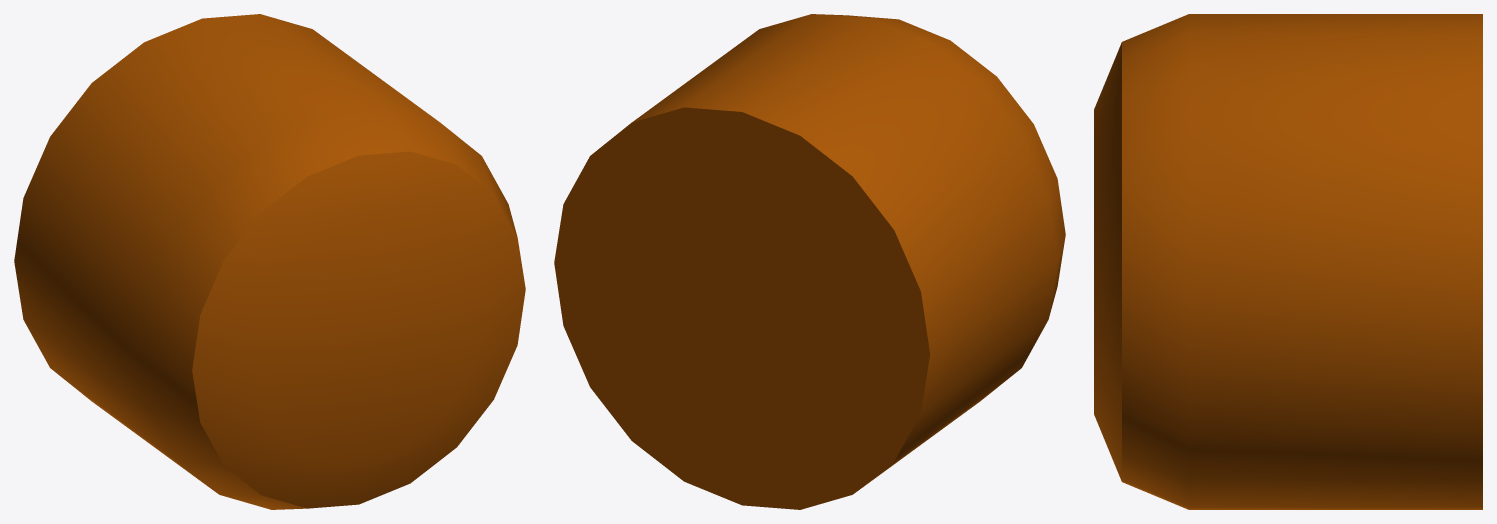
The model's file is carrot2_slices_1.fbx.
3 renders of one model, left to right at view 1: azimuth 30°, elevation 25°; view 2: azimuth 150°, elevation 25°; view 3: azimuth 270°, elevation 25°, orthographic. The views are drawn at different scales.
Visible parts, largest first — view 1: carrot_2_slices.001; view 2: carrot_2_slices.001; view 3: carrot_2_slices.001.
Boxes of the visible parts, x1=… form: carrot_2_slices.001: x1=14, y1=14, x2=525, y2=509; carrot_2_slices.001: x1=554, y1=14, x2=1065, y2=509; carrot_2_slices.001: x1=1094, y1=14, x2=1482, y2=509.
Size of the model in its own units: 87.99 by 87.99 by 68.44.
